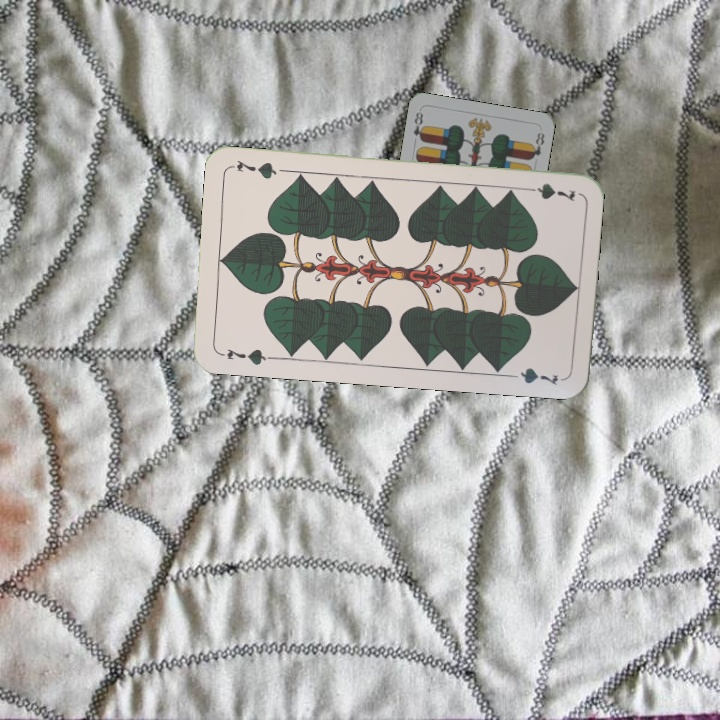E8: (409, 108, 428, 144)
G7: (519, 179, 578, 204), (216, 344, 275, 368)
